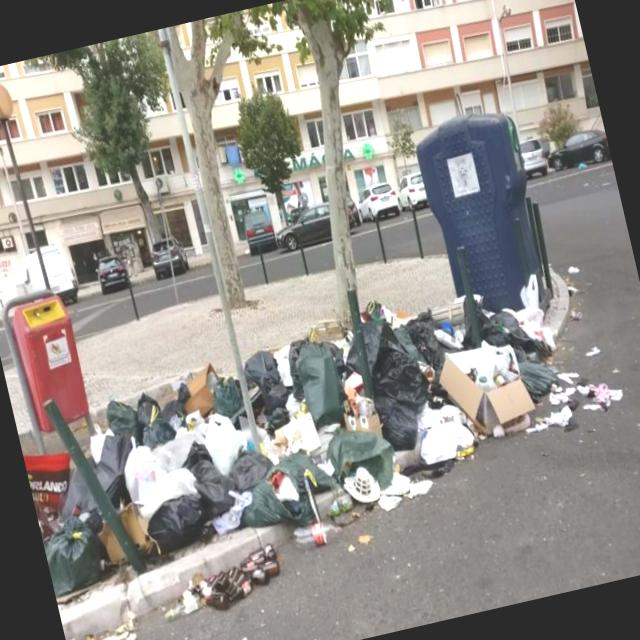garbage: (0, 210, 636, 610)
